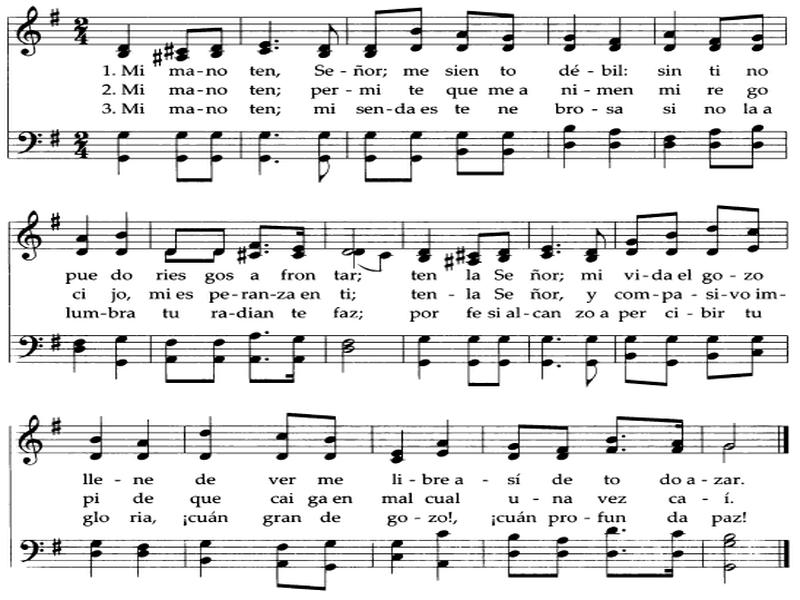B: (336, 332, 365, 381), (722, 420, 744, 452), (718, 563, 738, 591), (719, 533, 738, 558), (718, 443, 738, 464)
C: (483, 124, 523, 188), (486, 331, 517, 397), (443, 127, 477, 186), (398, 126, 427, 194), (656, 329, 685, 394), (457, 330, 485, 391), (359, 2, 387, 61), (310, 125, 337, 186), (315, 535, 342, 595), (203, 124, 227, 190), (167, 126, 192, 188), (317, 407, 344, 464), (358, 124, 381, 190), (577, 329, 601, 392), (271, 409, 297, 466), (701, 202, 729, 254), (449, 4, 477, 55), (505, 414, 531, 467), (493, 9, 522, 56), (700, 125, 728, 173), (743, 333, 768, 386), (623, 328, 643, 392), (597, 526, 618, 585), (745, 123, 767, 178), (157, 337, 181, 387), (549, 534, 573, 584), (702, 334, 723, 391), (746, 4, 769, 56), (500, 528, 522, 582), (242, 329, 263, 385), (661, 206, 683, 259), (601, 406, 622, 461), (706, 8, 731, 54), (272, 542, 294, 594), (406, 3, 427, 57), (206, 338, 226, 390), (584, 224, 609, 265), (315, 21, 340, 61), (625, 210, 643, 259), (553, 418, 571, 467), (205, 21, 228, 59), (247, 220, 266, 265), (493, 227, 516, 263), (745, 204, 760, 257), (162, 222, 186, 254), (208, 220, 229, 255), (177, 22, 196, 60), (467, 229, 484, 268), (374, 248, 392, 274)
CF: (14, 119, 46, 160), (16, 330, 46, 366), (18, 533, 45, 570)
CS: (16, 407, 47, 471), (15, 206, 46, 268), (11, 1, 43, 61)
N: (425, 527, 455, 586), (103, 333, 133, 386), (107, 208, 136, 262), (409, 332, 437, 385), (110, 128, 136, 184), (132, 414, 160, 466), (380, 536, 413, 580), (601, 122, 628, 174), (124, 541, 157, 581), (602, 13, 632, 57), (556, 124, 582, 174), (250, 126, 273, 180), (557, 9, 583, 56), (81, 535, 110, 577), (85, 416, 109, 465), (412, 224, 437, 269), (74, 208, 95, 261), (535, 330, 555, 385), (432, 419, 458, 461), (193, 534, 215, 582), (195, 414, 216, 464), (657, 128, 681, 171), (663, 6, 683, 56), (114, 18, 136, 60), (386, 426, 407, 467), (538, 223, 557, 264), (256, 18, 275, 58), (70, 334, 87, 376), (350, 249, 367, 267)
SC: (654, 529, 693, 584), (285, 324, 309, 390), (665, 416, 692, 460), (290, 223, 309, 265)
SOS: (45, 207, 65, 234), (47, 413, 65, 435), (48, 332, 64, 355), (160, 41, 176, 64), (46, 8, 66, 25), (48, 125, 63, 147), (149, 45, 163, 68), (51, 539, 65, 558), (235, 248, 248, 267), (454, 244, 465, 265), (444, 253, 453, 273)
